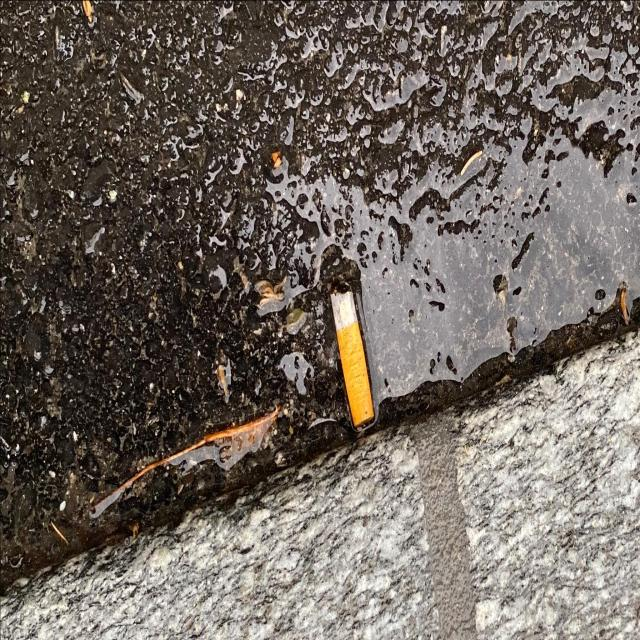other waste: (332, 281, 374, 432)
